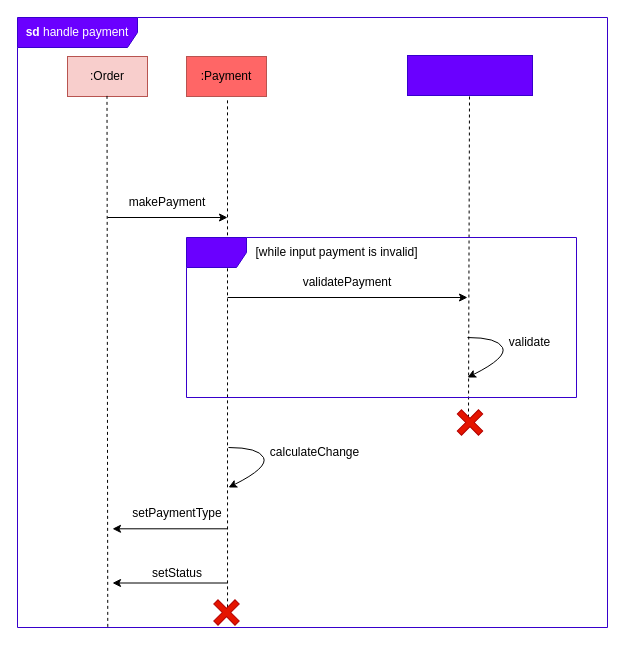
The diagram is 625 pixels wide and 652 high, and some of its shapes have lost their labels. The box of each missing label's shape, as (x1, y1, x2, y2) in pixels:
:PaymentValidation: (406, 54, 532, 96)
loop: (186, 236, 576, 398)
